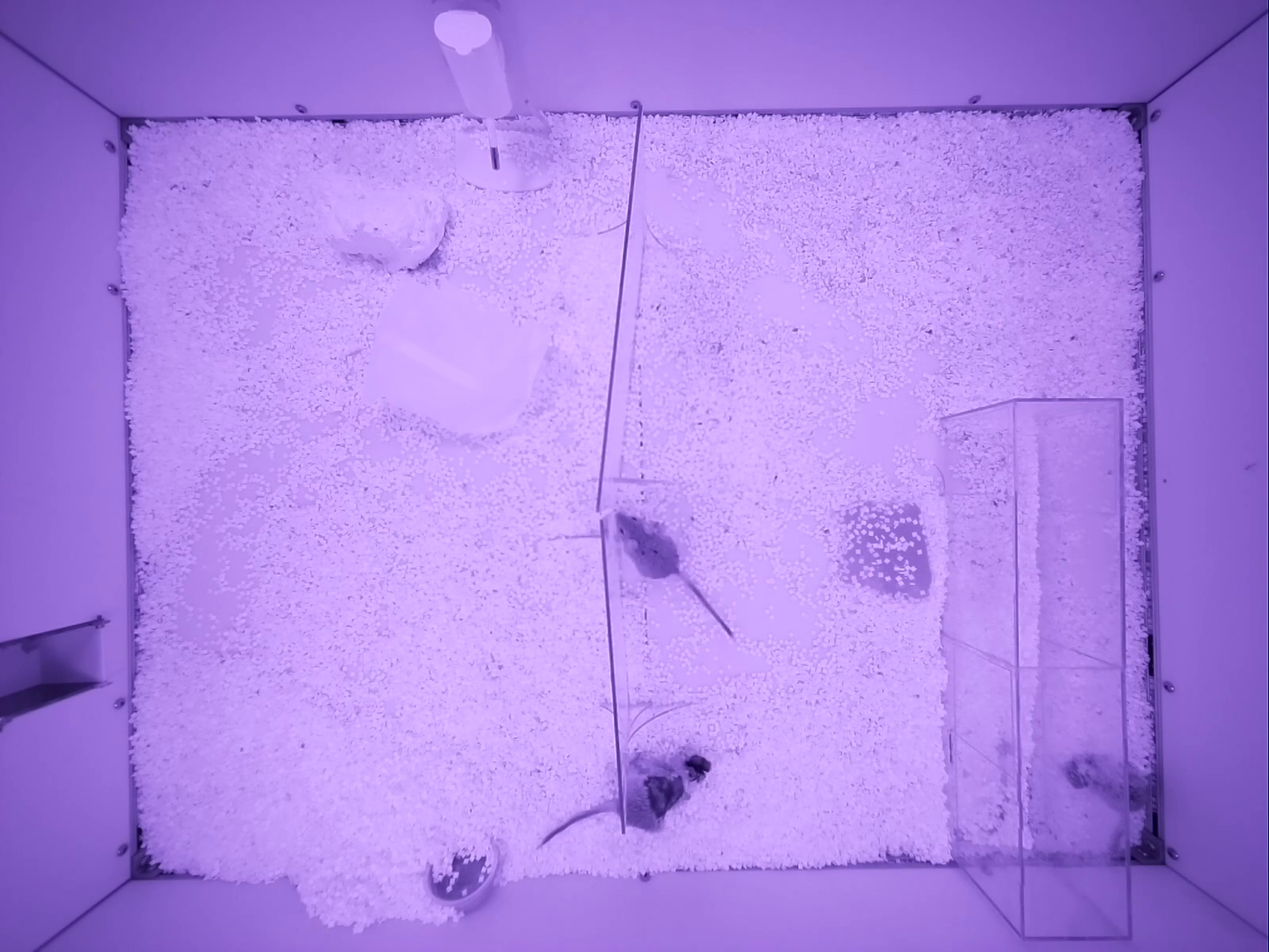adult_back: (615, 511, 734, 638), (625, 754, 710, 830), (1064, 754, 1125, 809)
